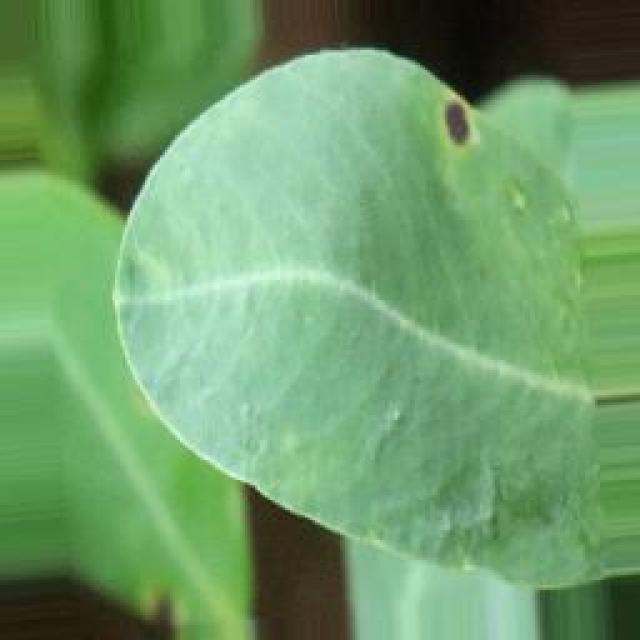Early_leaf_spot: (440, 78, 511, 170)
